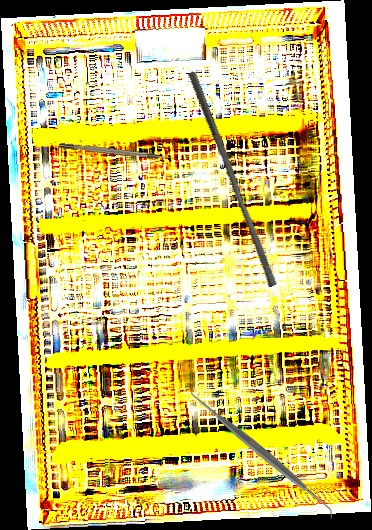Hook Surgical: (59, 141, 177, 163)
Pusher: (179, 71, 285, 288)
Spatula Surgical: (191, 387, 333, 519)
